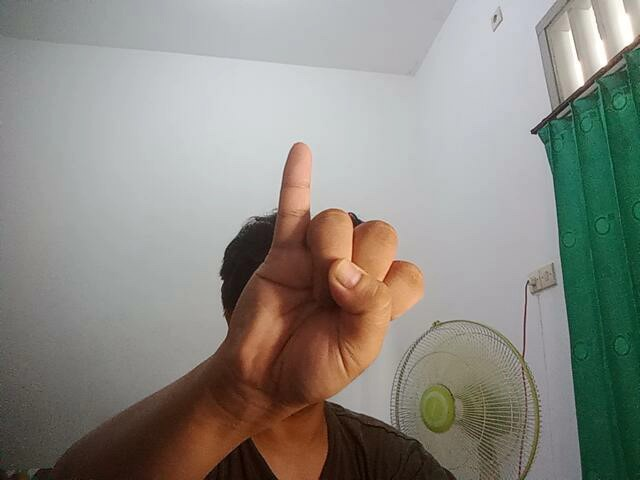I: (201, 126, 439, 408)
